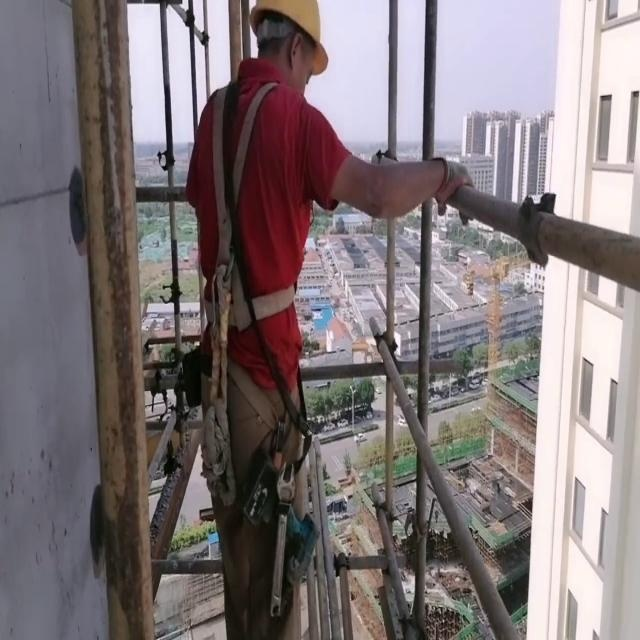Arnes_seguridad: (192, 75, 308, 344)
